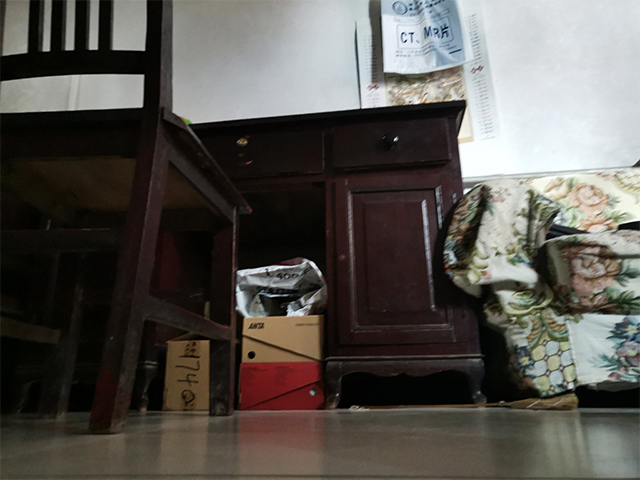cabinet: (187, 99, 489, 412)
sofa: (439, 166, 640, 413)
stool: (1, 1, 255, 436)
